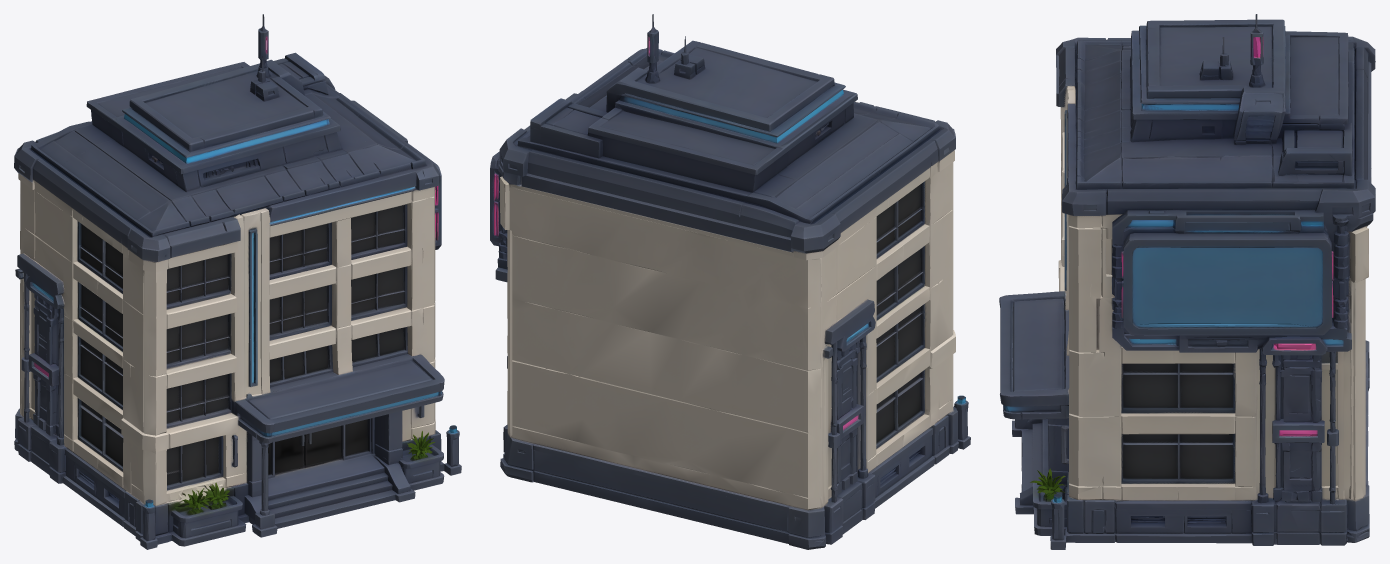
The model's file is source.glb.
The picture shows the model from 3 angles, left to right: view 1: azimuth 30°, elevation 25°; view 2: azimuth 150°, elevation 25°; view 3: azimuth 270°, elevation 25°; orthographic projection. The views are drawn at different scales.
Parts seen in each view (by area): view 1: model; view 2: model; view 3: model.
Boxes of the visible parts, x1,y1,x2,y2 form: model: [14, 14, 461, 549]; model: [490, 14, 970, 549]; model: [999, 14, 1375, 549].
Size of the model in its own units: 1.55 by 1.9 by 1.36.
1 material, 1 textured.
